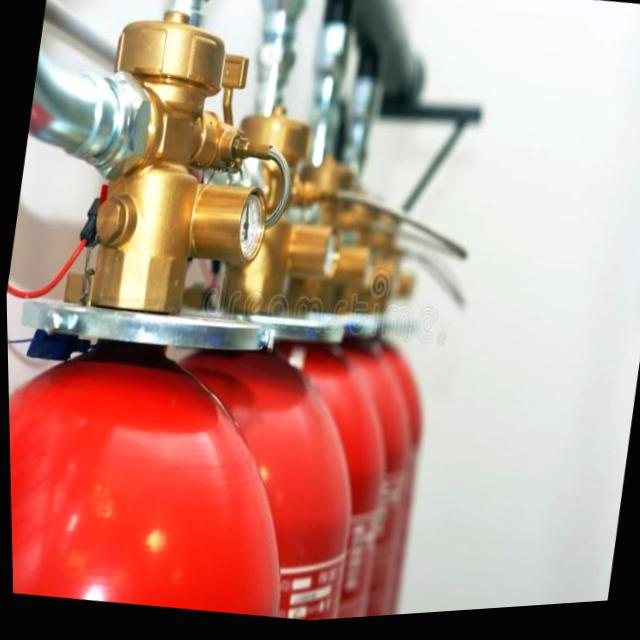FireExtinguisher: (0, 0, 373, 635), (61, 66, 421, 637)
